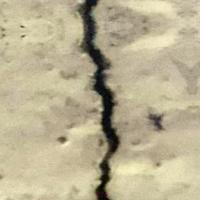crack: (44, 0, 132, 199)
